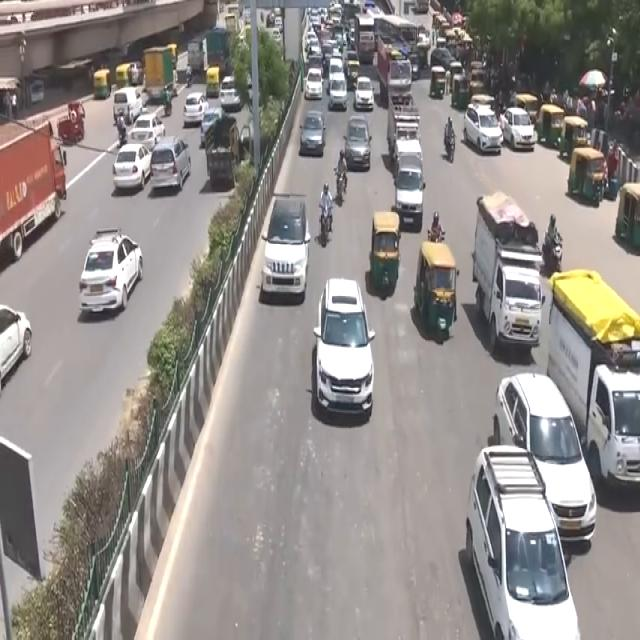BUS: (0, 125, 64, 275)
TRUCK: (547, 274, 638, 491), (472, 193, 543, 353)
